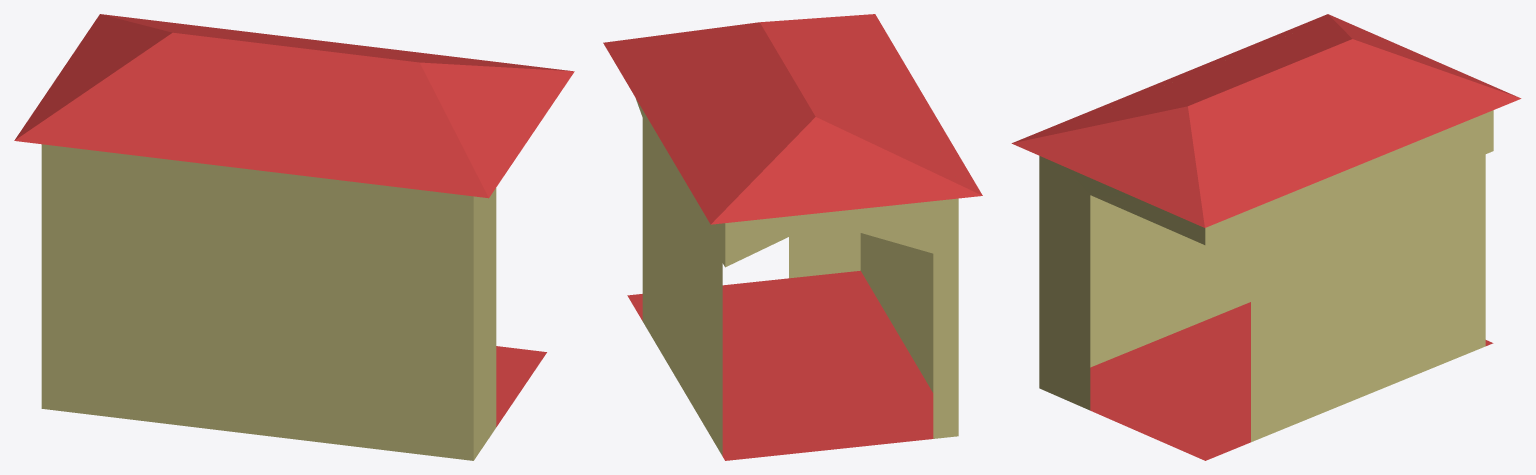
The picture shows the model from 3 angles, left to right: view 1: azimuth 30°, elevation 25°; view 2: azimuth 150°, elevation 25°; view 3: azimuth 270°, elevation 25°; orthographic projection. The views are drawn at different scales.
Visible parts, largest first — view 1: group_5, group_3, group_4, group_6; view 2: group_3, group_5, group_6, group_4; view 3: group_5, group_3, group_6, group_4.
Part boxes in pixels (box(x1,y1,x2,y2)): group_5: box(41, 144, 496, 460); group_3: box(14, 14, 574, 197); group_4: box(14, 14, 573, 198); group_6: box(496, 346, 546, 426); group_3: box(605, 14, 982, 224); group_5: box(636, 99, 958, 455); group_6: box(627, 270, 933, 460); group_4: box(603, 14, 982, 224); group_5: box(1039, 110, 1493, 442); group_3: box(1013, 14, 1520, 227); group_6: box(1090, 302, 1493, 460); group_4: box(1011, 14, 1521, 227).
Bounding box in the file's own units: 19.14 × 19.28 × 12.29.
